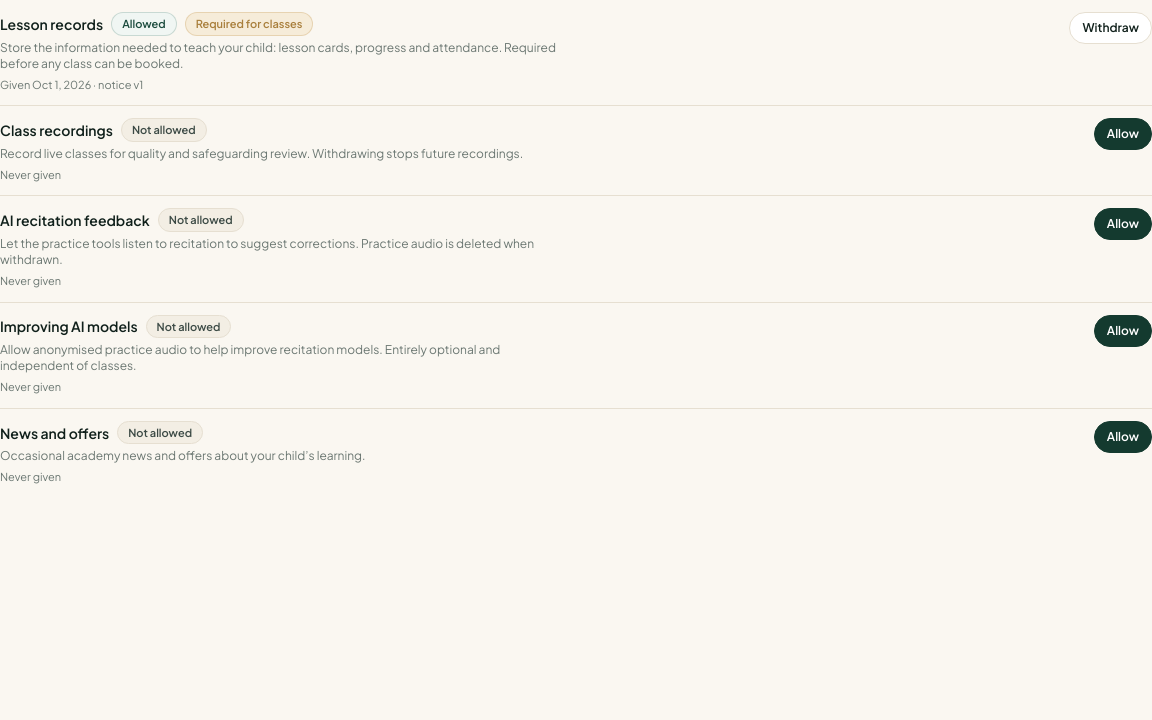
Test: ConsentManager (per-purpose grant / withdraw) › withdraws through a confirmation dialog with a warning for lesson records
Click the button with aria-label "Withdraw Lesson records".
click(1111, 28)  # box left=1070, top=12, right=1151, bottom=44
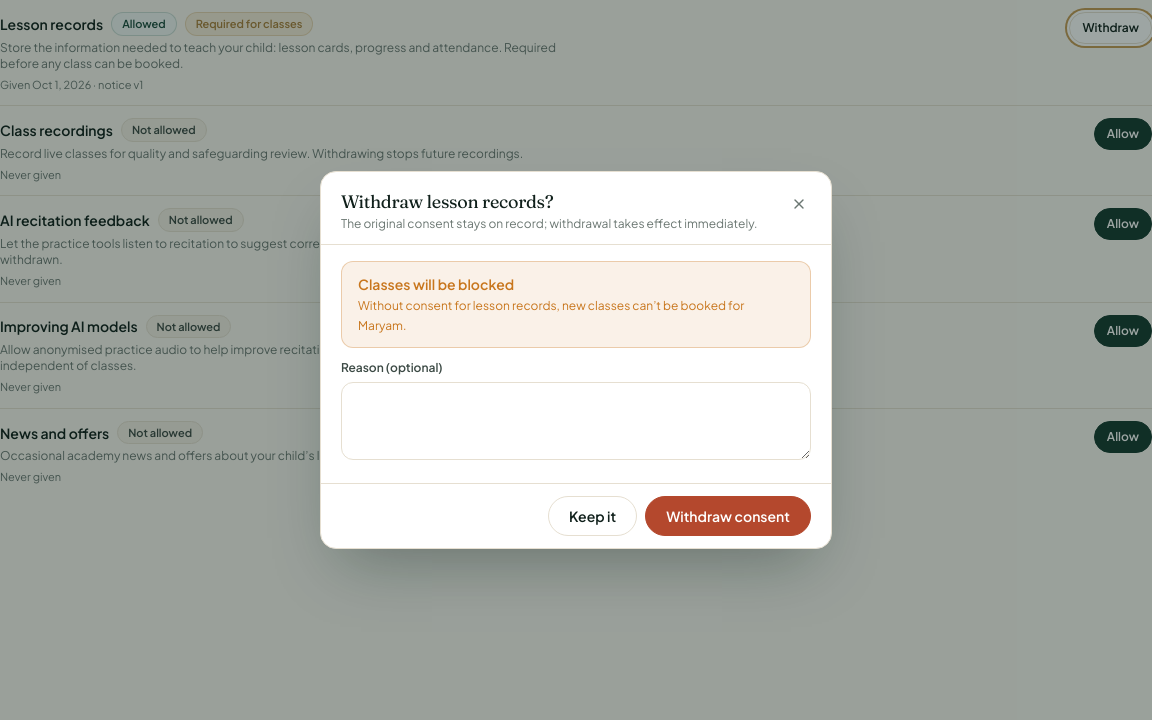
expect the text "Classes will be blocked" is shown: met, box left=358, top=275, right=514, bottom=293
Type "Moving abroad" into the text box labelled "Reason (optional)".
click(576, 421); type("Moving abroad")  # box left=341, top=382, right=811, bottom=460
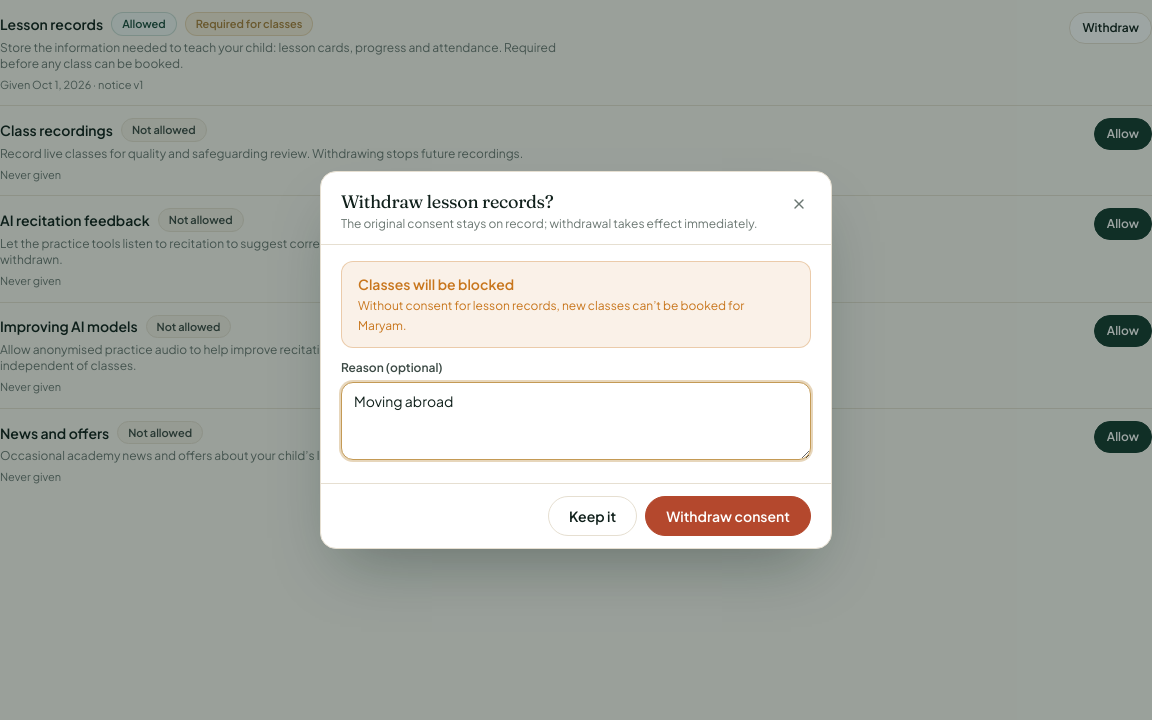
Click the button "Withdraw consent".
click(728, 516)  # box left=645, top=496, right=811, bottom=536
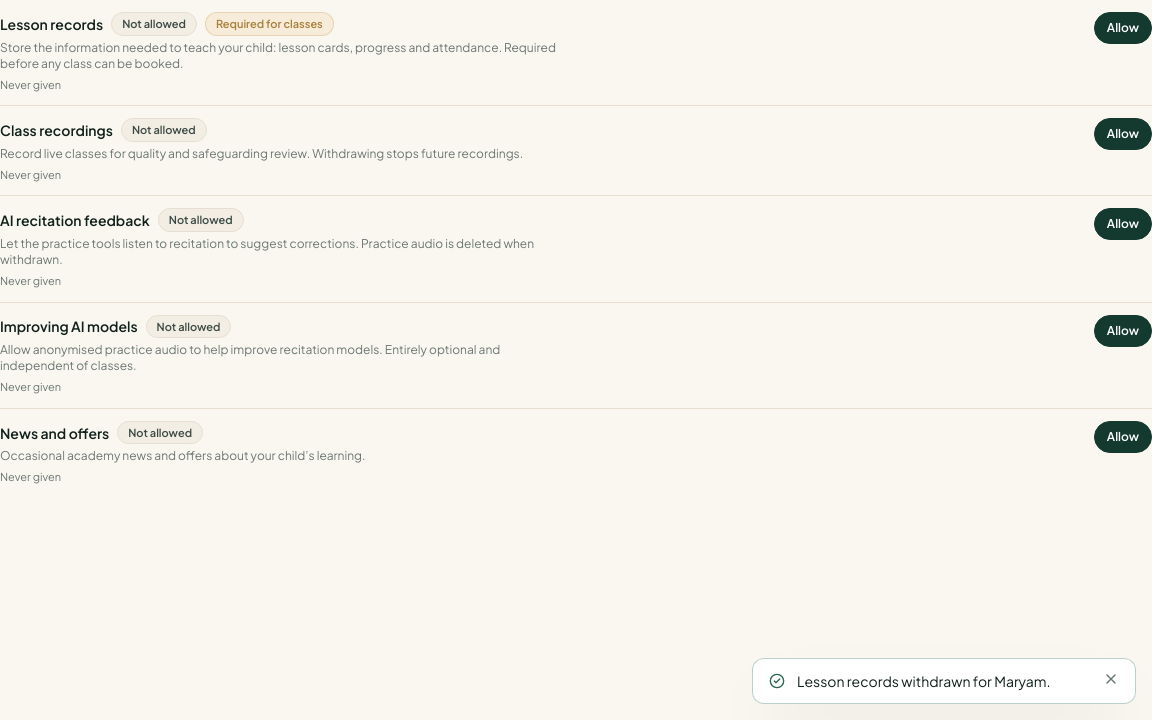
expect the dialog is gone: met
